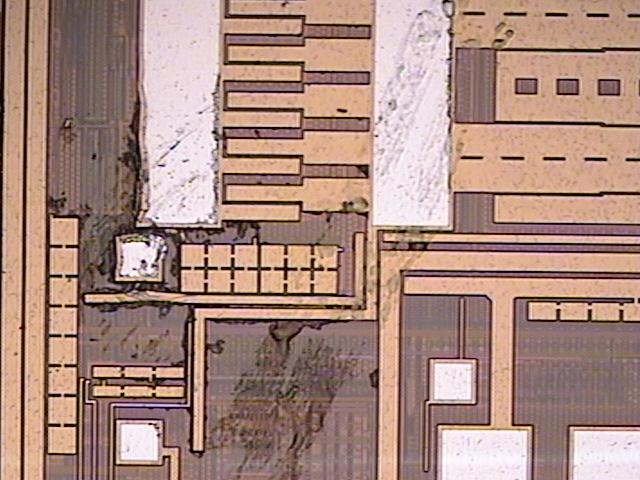SCRATCH: (34, 1, 518, 480)
